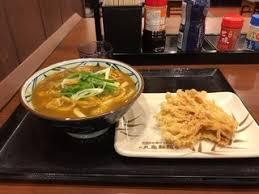curry: (24, 60, 139, 116)
kakiage: (161, 90, 235, 149)
